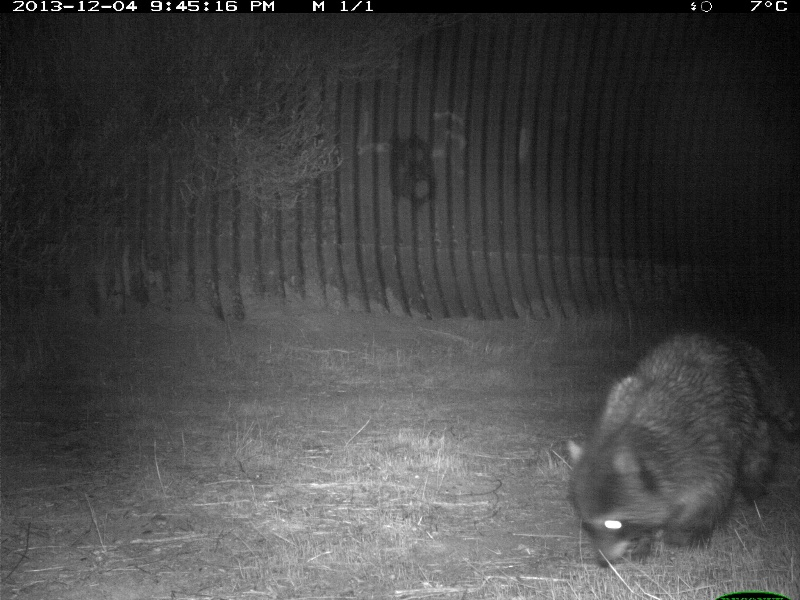raccoon: (560, 325, 779, 572)
